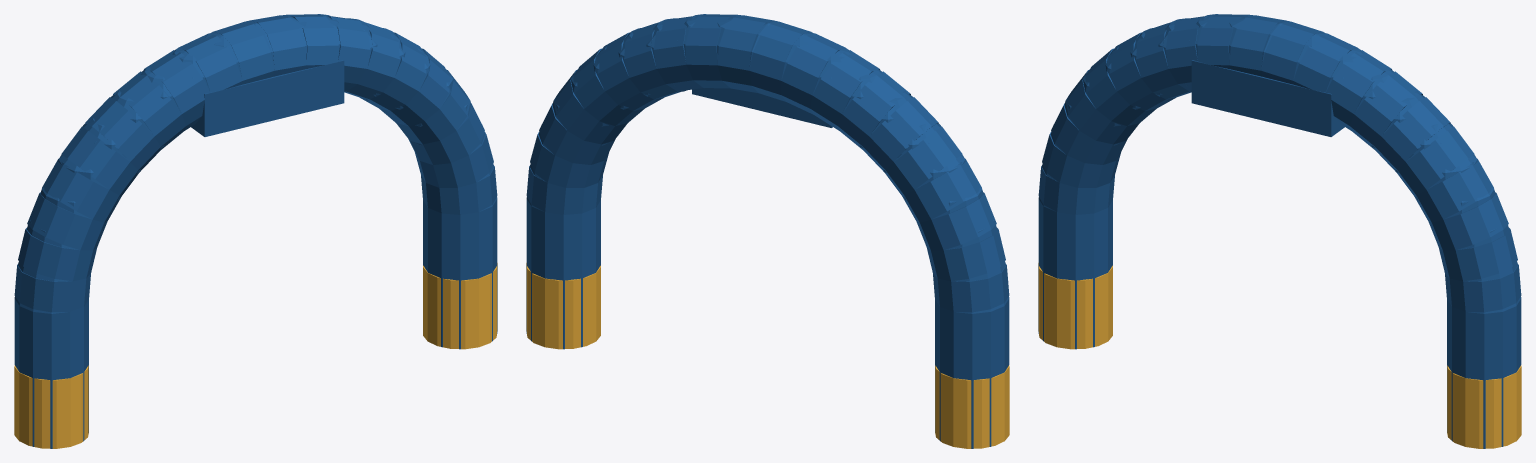
Rendered from scendance-plan-inflatable-arch.glb.
3 renders of one model, left to right at view 1: azimuth 30°, elevation 25°; view 2: azimuth 150°, elevation 25°; view 3: azimuth 330°, elevation 25°, orthographic.
Size of the model in its own units: 4.41 by 3.2 by 0.606.
